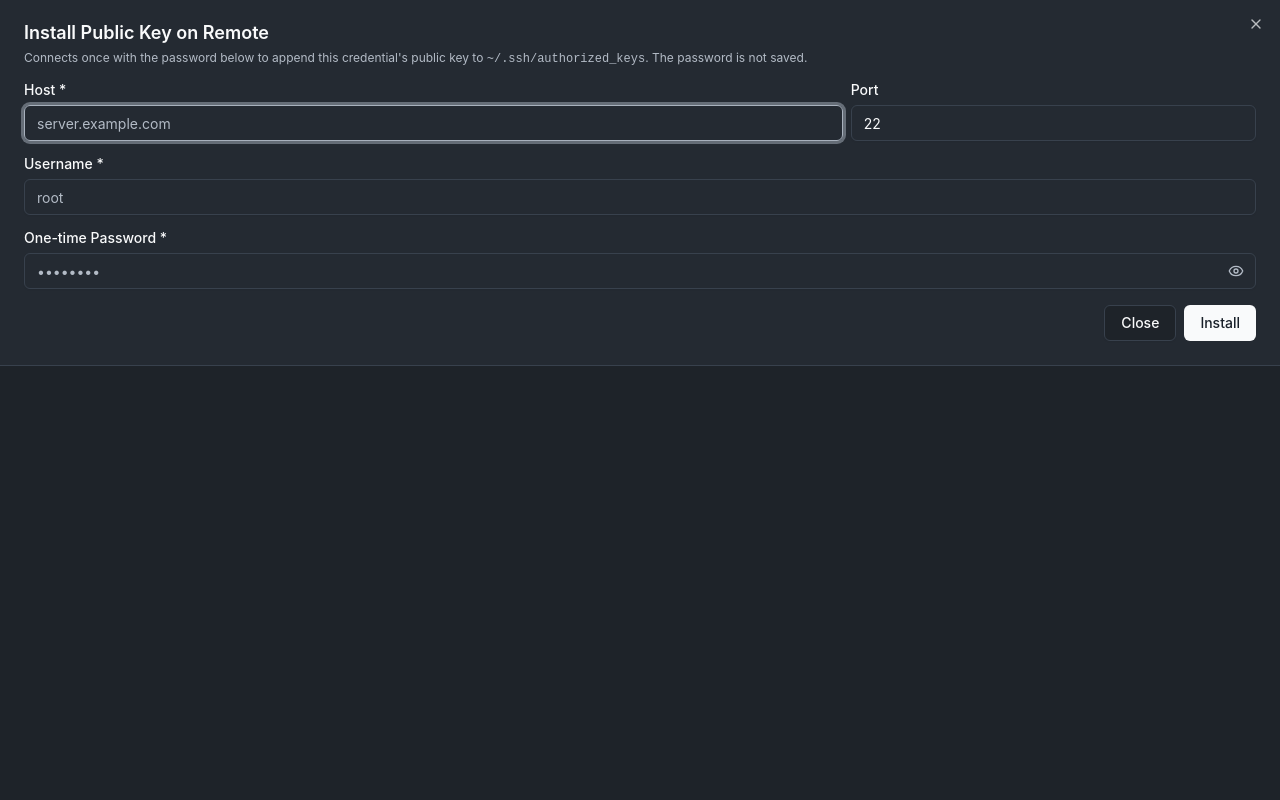
InstallKeyDialog › marks required text fields with aria-required and flips aria-invalid on blank submit
This screenshot has width=1280, height=800.
Type "example.com" into the field labelled "Host *" at (433, 123), box [24,105,843,141]
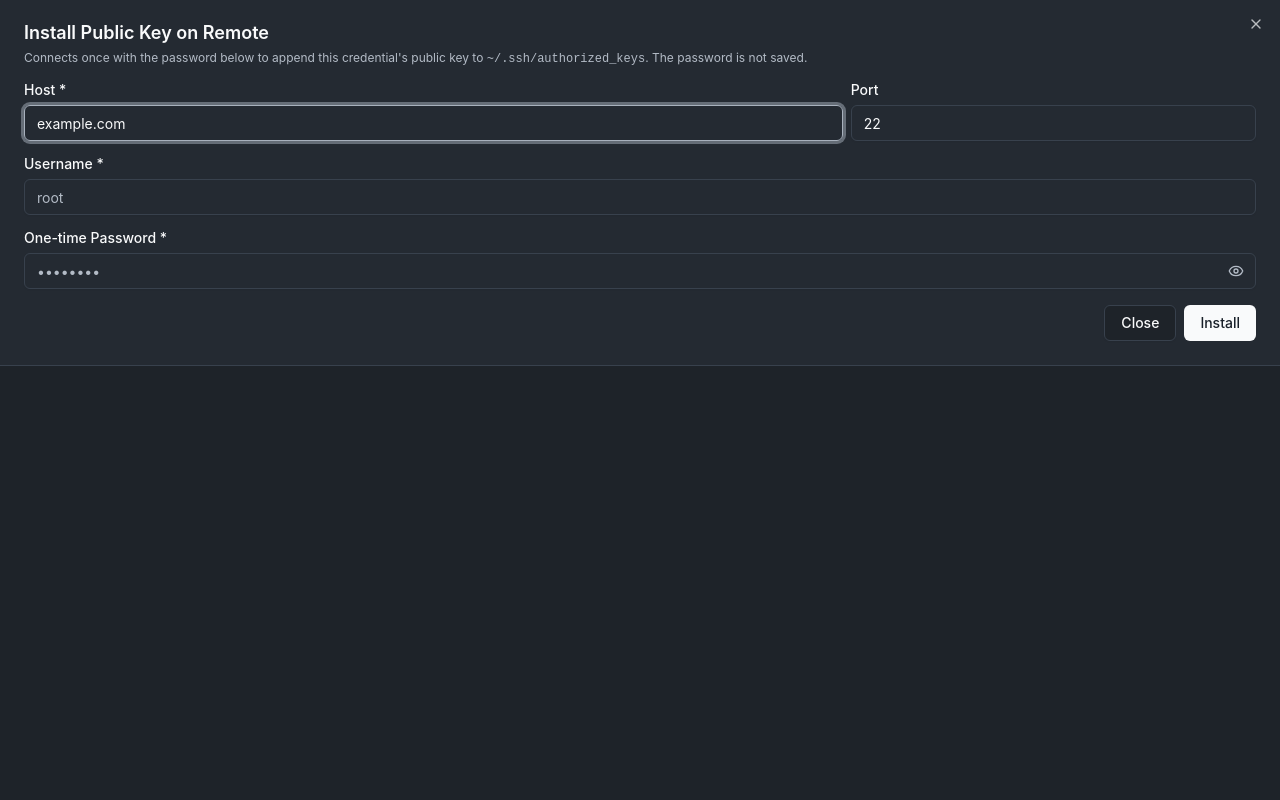
Click the button "Install" at (1220, 323), box [1184,305,1256,341]
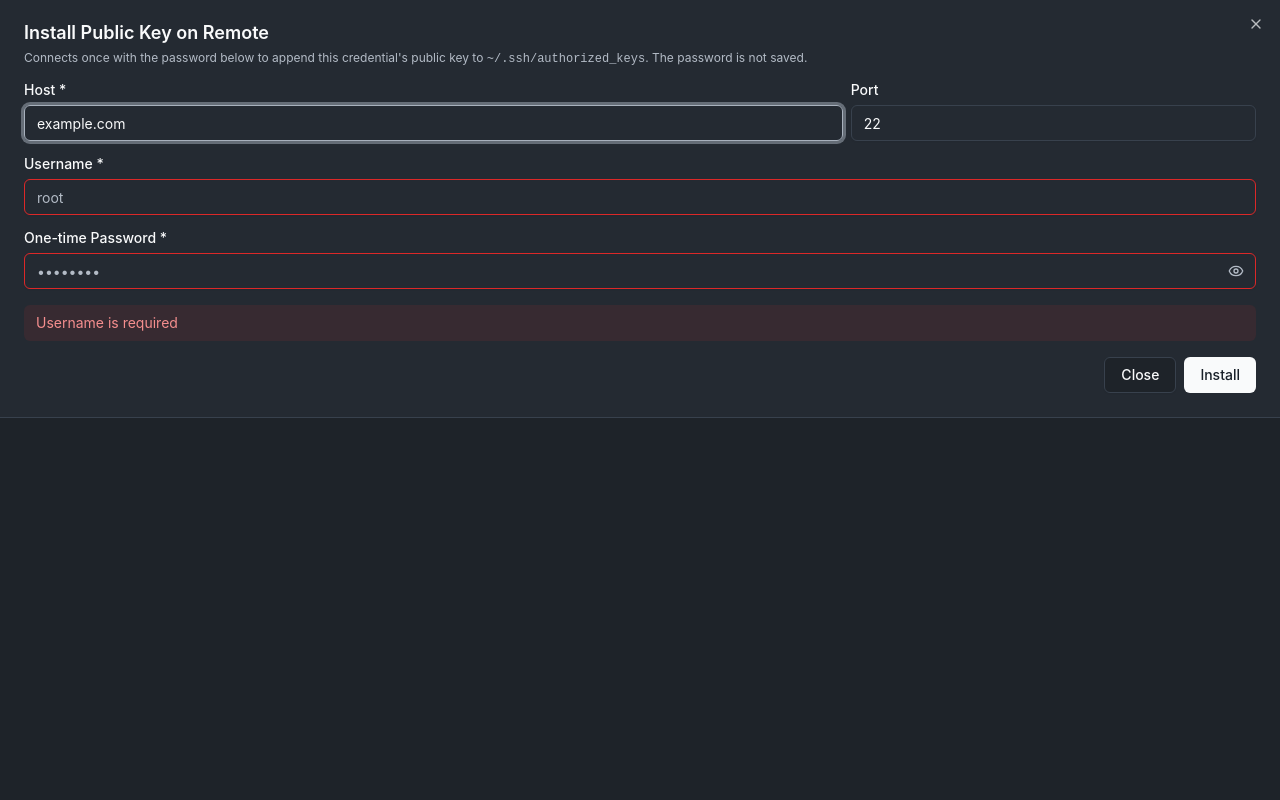
Expected: the message "Username is required" is shown, [24,305,1256,341]
